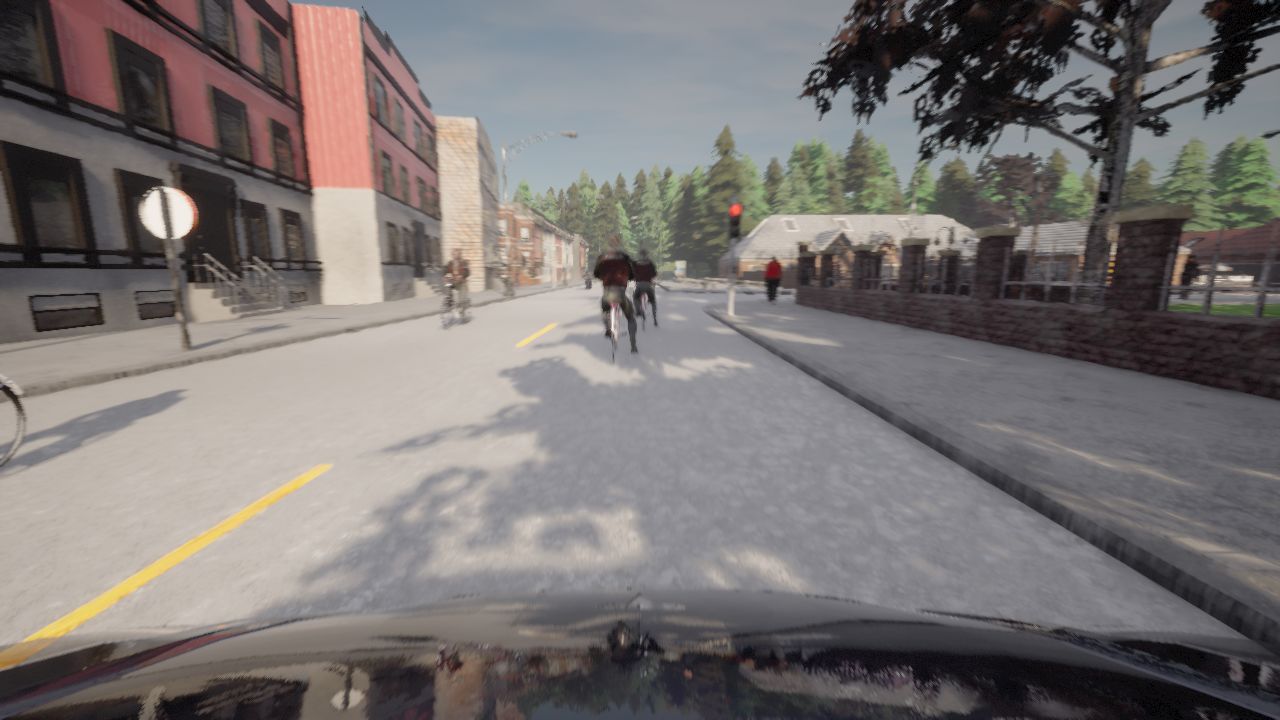cyclist: (0, 588, 1279, 719), (442, 277, 470, 328), (605, 303, 627, 361), (637, 292, 650, 330), (583, 273, 592, 288), (645, 295, 648, 309), (648, 299, 650, 303)
pedestrian: (1176, 255, 1199, 300), (765, 256, 783, 303)
